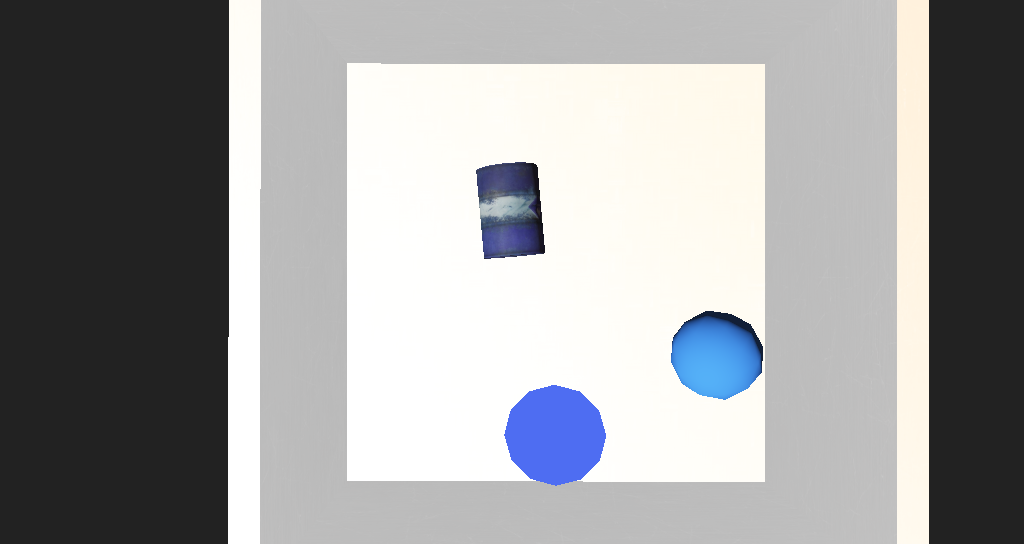cone: (445, 212, 499, 265)
cylinder: (465, 317, 532, 370)
sphere: (589, 289, 650, 332)
